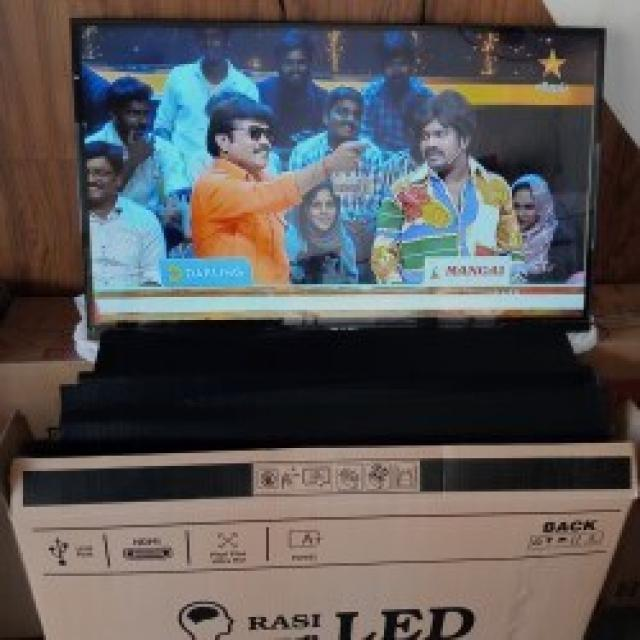electronics: (72, 20, 604, 440), (82, 23, 599, 325), (10, 440, 632, 635), (59, 328, 607, 448), (59, 369, 607, 448), (95, 323, 573, 384), (72, 20, 287, 136), (0, 294, 90, 435), (0, 415, 41, 632), (3, 348, 90, 435), (599, 499, 635, 609), (330, 169, 381, 218), (161, 259, 248, 284), (138, 389, 166, 430), (617, 399, 635, 456), (100, 105, 128, 138), (269, 207, 297, 238), (568, 325, 594, 351), (64, 404, 82, 435), (381, 143, 407, 161), (269, 146, 292, 166), (0, 279, 8, 315), (358, 113, 369, 138), (100, 422, 115, 438), (192, 110, 202, 123), (230, 195, 238, 207), (156, 210, 164, 218), (276, 118, 287, 123), (118, 420, 125, 425), (256, 210, 259, 218), (343, 194, 346, 200), (210, 87, 212, 95), (251, 179, 256, 182)
